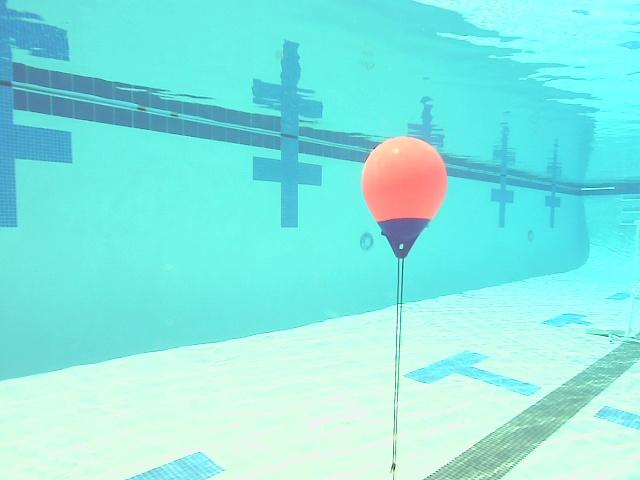buoy: (361, 136, 448, 260)
